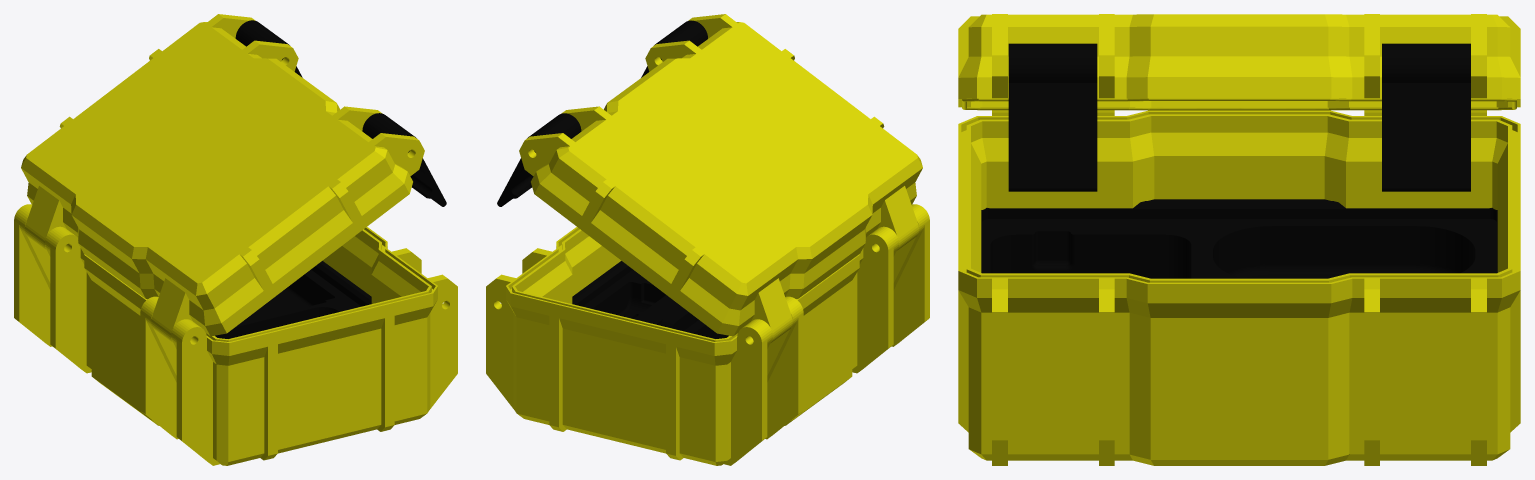
File: Estuchecerradodos.glb
The picture shows the model from 3 angles, left to right: view 1: azimuth 30°, elevation 25°; view 2: azimuth 150°, elevation 25°; view 3: azimuth 270°, elevation 25°; orthographic projection. The views are drawn at different scales.
Bounding box in the file's own units: 0.111 × 0.1103 × 0.133.
